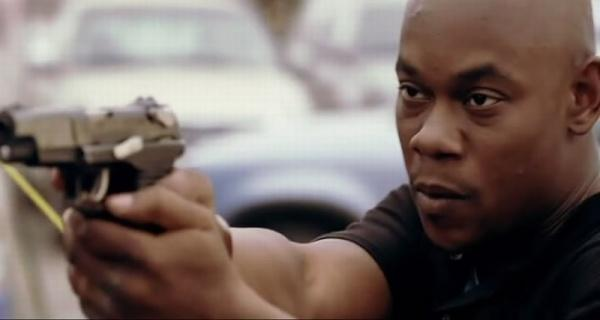Gun: (0, 95, 187, 222)
